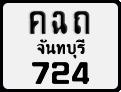letters: (71, 61, 90, 85), (73, 10, 90, 35), (31, 62, 50, 84), (51, 62, 70, 84), (30, 11, 46, 35), (52, 10, 68, 34)
province: (36, 38, 85, 59)
